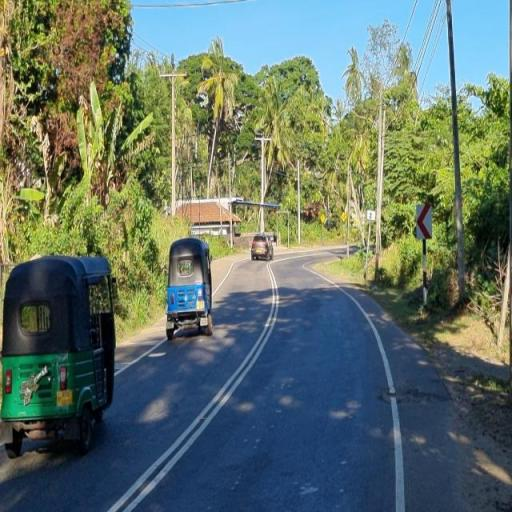double_white_line: (108, 261, 279, 512)
